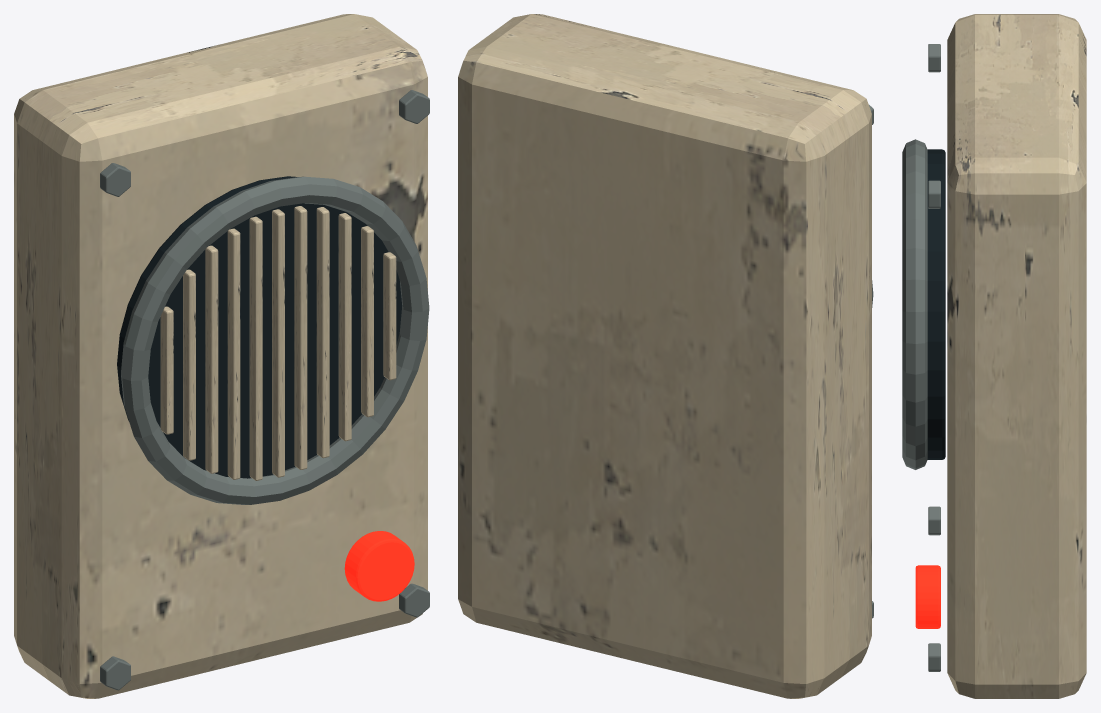
File: wall-microphone.glb
3 views of the same model, side by side, from view 1: azimuth 30°, elevation 25°; view 2: azimuth 150°, elevation 25°; view 3: azimuth 270°, elevation 25° (orthographic). The views are drawn at different scales.
Parts seen in each view (by area): view 1: wall-microphone__wall-microphone__ivory, wall-microphone__wall-microphone__hardware, wall-microphone__wall-microphone__rubber, wall-microphone__wall-microphone__danger-red; view 2: wall-microphone__wall-microphone__ivory; view 3: wall-microphone__wall-microphone__ivory, wall-microphone__wall-microphone__hardware, wall-microphone__wall-microphone__rubber, wall-microphone__wall-microphone__danger-red.
Part boxes in pixels (<box>): wall-microphone__wall-microphone__ivory: <box>14,14,427,698</box>; wall-microphone__wall-microphone__hardware: <box>100,90,429,690</box>; wall-microphone__wall-microphone__rubber: <box>117,176,402,478</box>; wall-microphone__wall-microphone__danger-red: <box>344,531,414,601</box>; wall-microphone__wall-microphone__ivory: <box>458,14,871,698</box>; wall-microphone__wall-microphone__ivory: <box>947,14,1086,698</box>; wall-microphone__wall-microphone__hardware: <box>902,44,940,671</box>; wall-microphone__wall-microphone__rubber: <box>927,149,945,459</box>; wall-microphone__wall-microphone__danger-red: <box>915,565,940,628</box>.
Size of the model in its own units: 0.62 by 0.94 by 0.291.
Materials: 4 (1 with a texture image).
